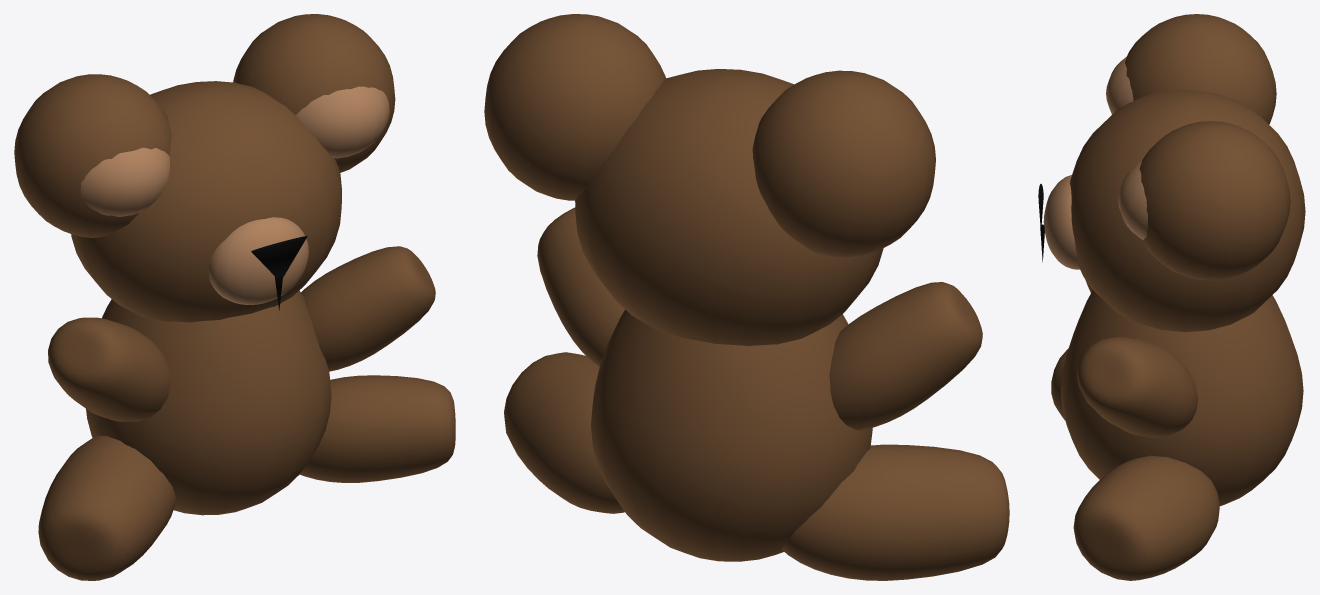
Rendered from bear.fbx.
3 renders of one model, left to right at view 1: azimuth 30°, elevation 25°; view 2: azimuth 150°, elevation 25°; view 3: azimuth 270°, elevation 25°, orthographic. The views are drawn at different scales.
Parts seen in each view (by area): view 1: pSphere1, pSphere4, pasted__pSphere5 (×2), pasted__pSphere2 (×2), pSphere2, pasted__pasted__pSphere5, pSphere5, pSphere3, pasted__pasted__pSphere2, pasted__pCone1; view 2: pSphere1, pSphere4, pasted__pSphere5 (×2), pSphere2, pasted__pSphere2, pSphere5, pasted__pasted__pSphere5; view 3: pSphere4, pSphere1, pasted__pSphere2 (×2), pasted__pasted__pSphere5, pSphere2, pasted__pSphere5 (×2), pSphere3, pasted__pasted__pSphere2.
Boxes of the visible parts, x1=… form: pSphere1: x1=71, y1=81, x2=341, y2=322; pSphere4: x1=86, y1=290, x2=331, y2=515; pasted__pSphere5 (×2): x1=38, y1=246, x2=435, y2=580; pasted__pSphere2 (×2): x1=80, y1=14, x2=395, y2=216; pSphere2: x1=14, y1=74, x2=171, y2=237; pasted__pasted__pSphere5: x1=299, y1=375, x2=455, y2=482; pSphere5: x1=48, y1=317, x2=170, y2=421; pSphere3: x1=208, y1=217, x2=308, y2=304; pasted__pasted__pSphere2: x1=296, y1=86, x2=389, y2=158; pasted__pCone1: x1=251, y1=236, x2=307, y2=278; pSphere1: x1=575, y1=69, x2=883, y2=345; pSphere4: x1=591, y1=309, x2=872, y2=561; pasted__pSphere5 (×2): x1=537, y1=207, x2=1009, y2=580; pSphere2: x1=752, y1=70, x2=935, y2=257; pasted__pSphere2: x1=484, y1=14, x2=666, y2=200; pSphere5: x1=829, y1=282, x2=982, y2=430; pasted__pasted__pSphere5: x1=504, y1=352, x2=624, y2=513; pSphere4: x1=1060, y1=290, x2=1303, y2=506; pSphere1: x1=1070, y1=89, x2=1305, y2=332; pasted__pSphere2 (×2): x1=1106, y1=56, x2=1290, y2=280; pasted__pasted__pSphere5: x1=1073, y1=455, x2=1219, y2=580; pSphere2: x1=1125, y1=14, x2=1276, y2=124; pasted__pSphere5 (×2): x1=1051, y1=336, x2=1197, y2=437; pSphere3: x1=1043, y1=175, x2=1079, y2=269; pasted__pasted__pSphere2: x1=1118, y1=161, x2=1147, y2=239.
Size of the model in its own units: 5.93 by 6.06 by 3.34.
